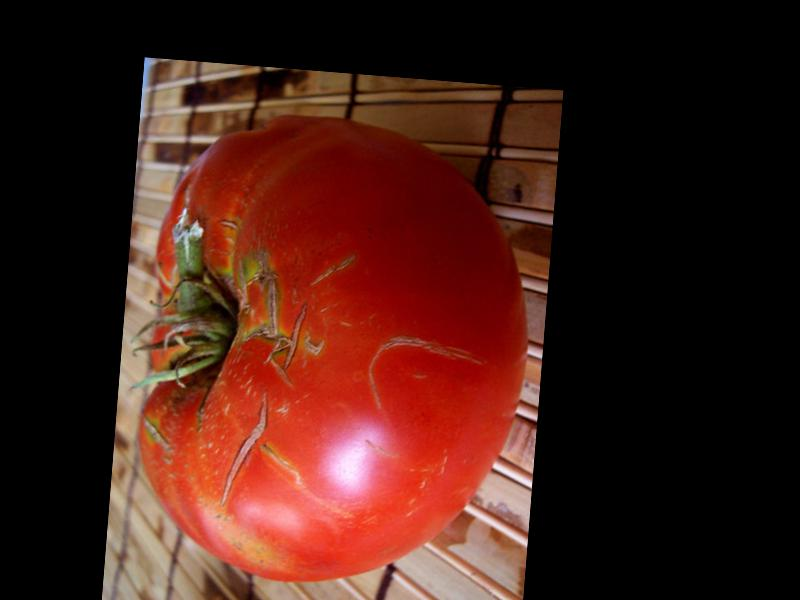Tomato: (127, 104, 537, 597)
